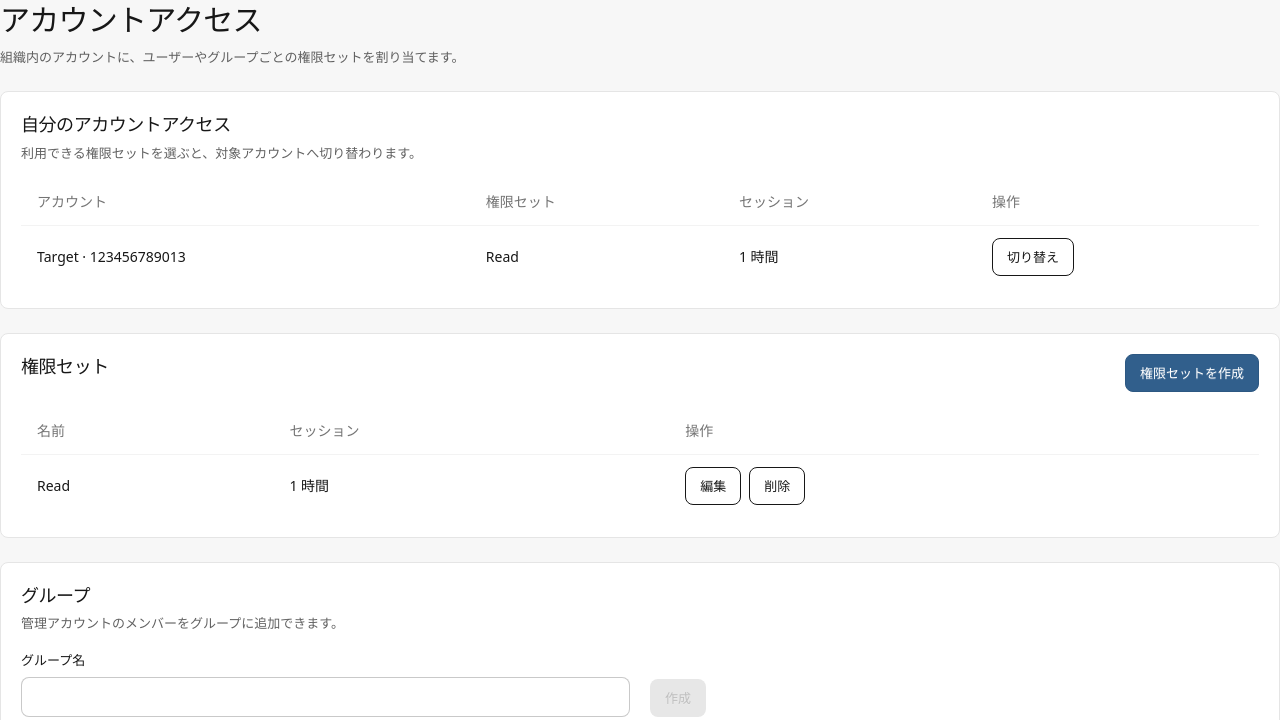
Test: Identity Center › edits a simple permission set visually and preserves its actions
Later steps or results of the test are not shown.
Click the button "編集".
click(713, 486)  # box [685,467,741,505]
(page scrolled)
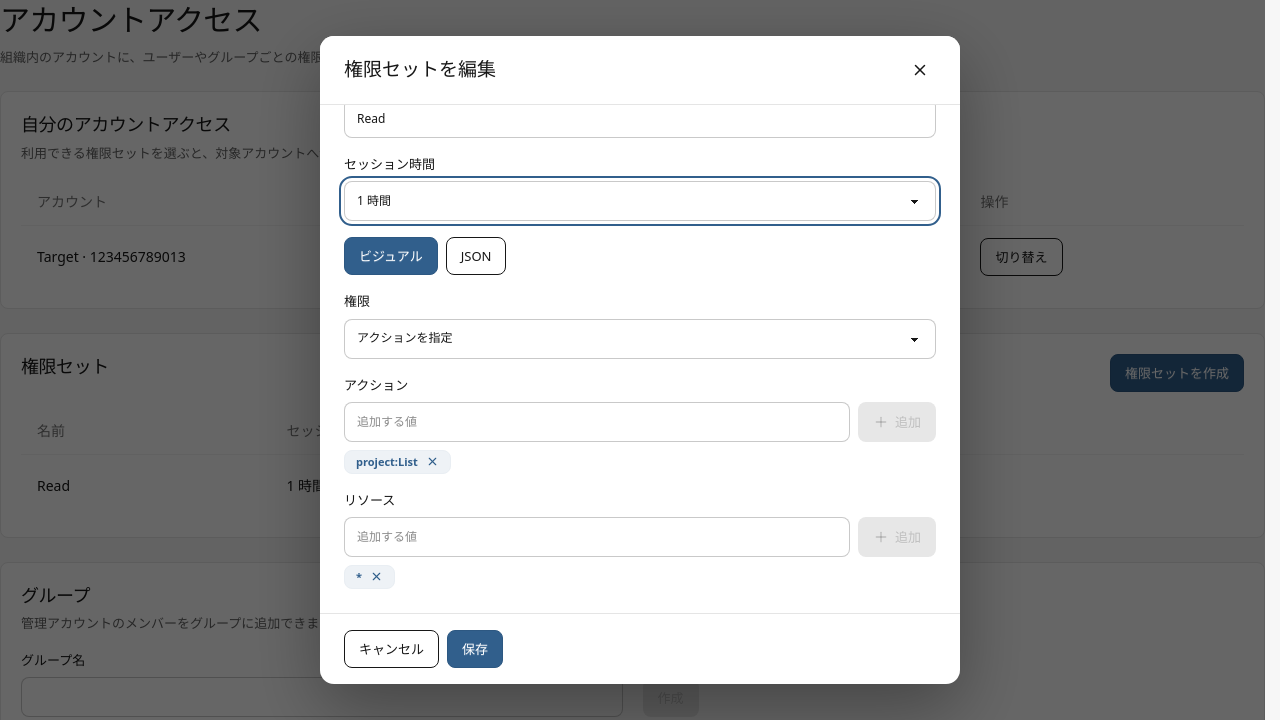
Check: the dropdown labelled "権限" shows "アクションを指定", box [344,319,936,359]
